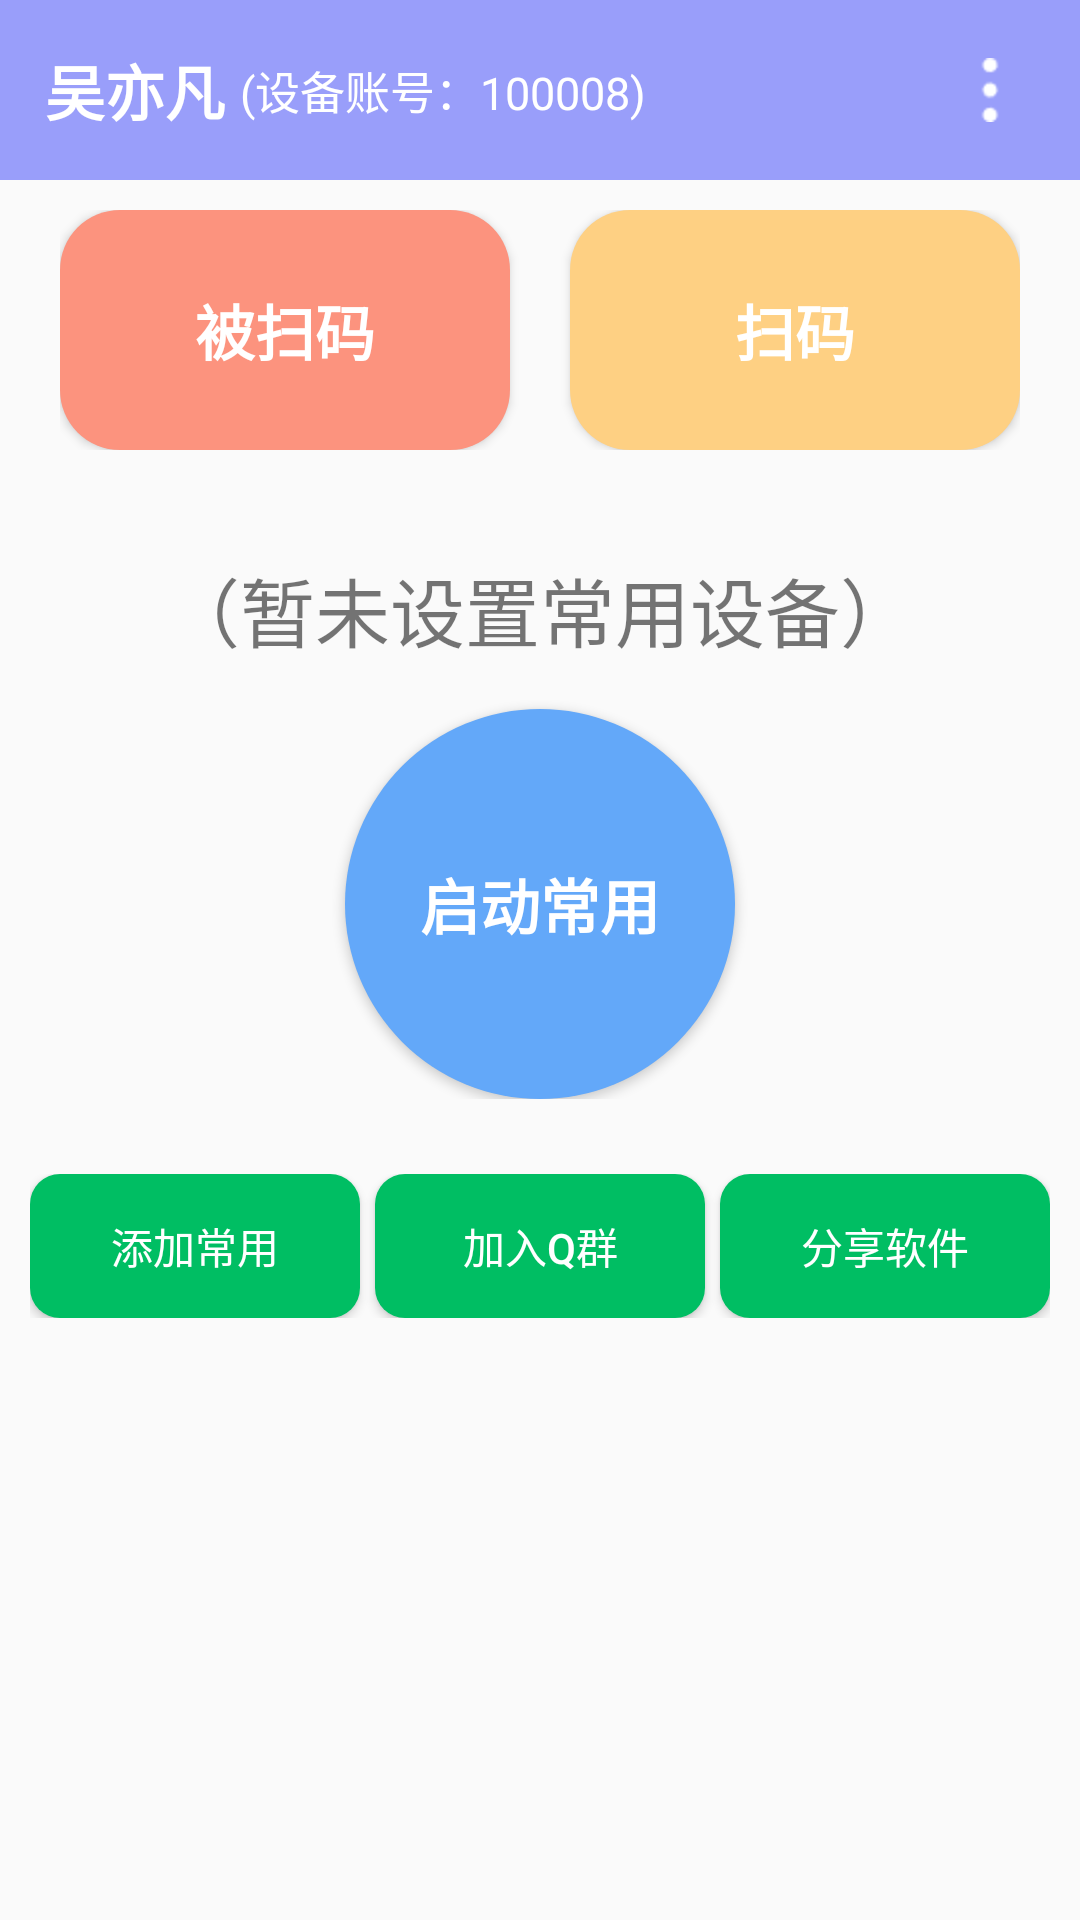

Icons on this 1080x1920 Android screen, each with the point to tap as (x,y):
more: (990,90)
